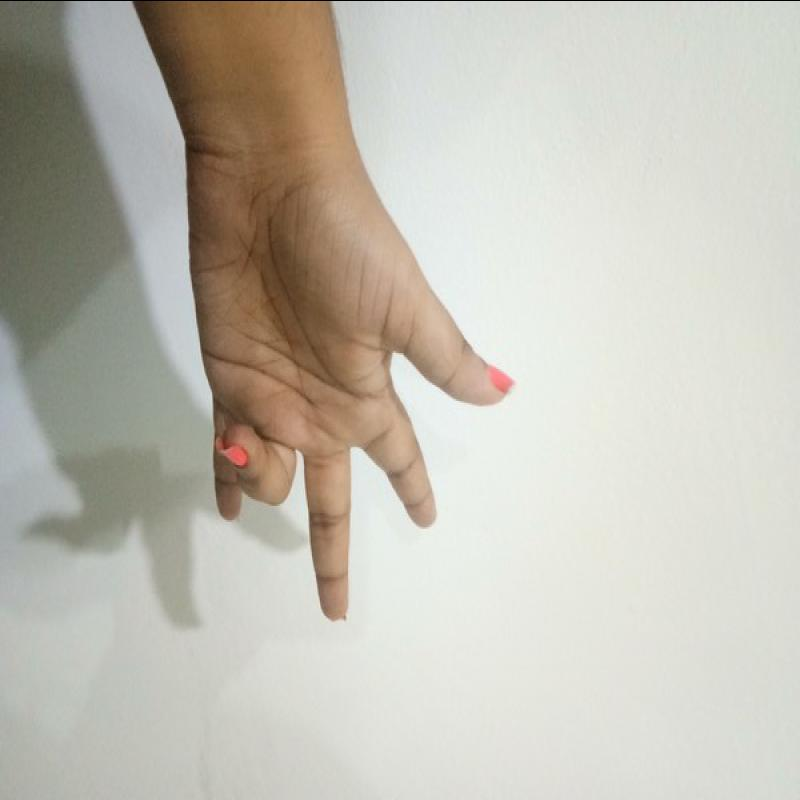Pathaaka: (167, 138, 521, 629)
